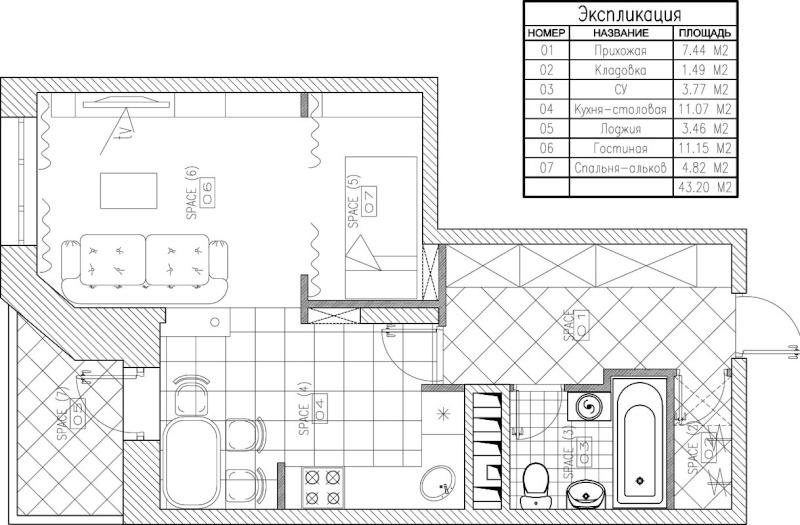bathroom: (511, 377, 668, 510)
hallway: (446, 245, 732, 511)
kitchen: (160, 307, 465, 510)
living_room: (37, 92, 422, 308)
terrace: (18, 312, 123, 515)
